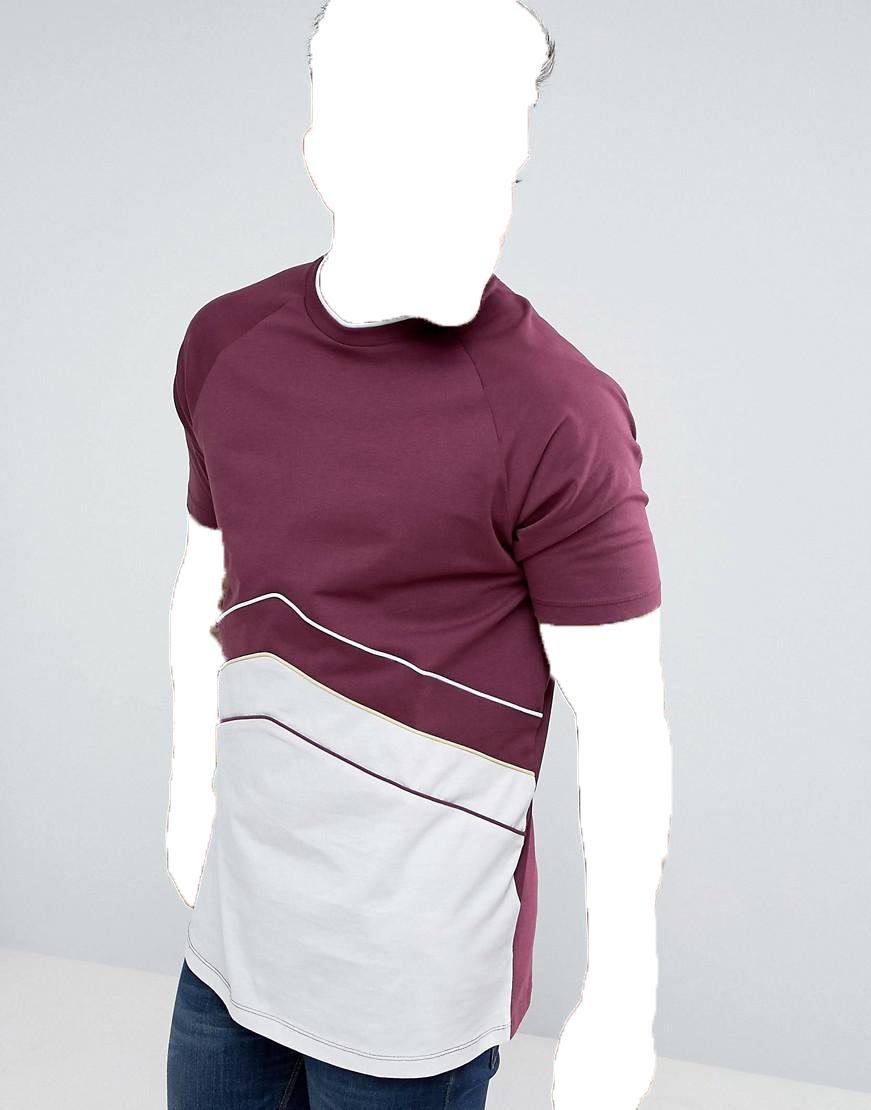teeshirt: (130, 256, 679, 1079)
